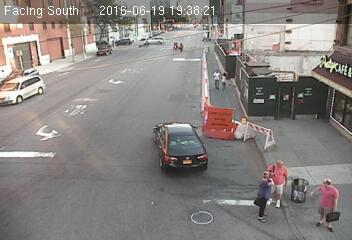neg: (151, 34, 163, 49)
pos: (308, 175, 348, 228), (247, 168, 284, 217), (263, 154, 294, 195), (216, 68, 232, 90), (208, 67, 221, 83)
